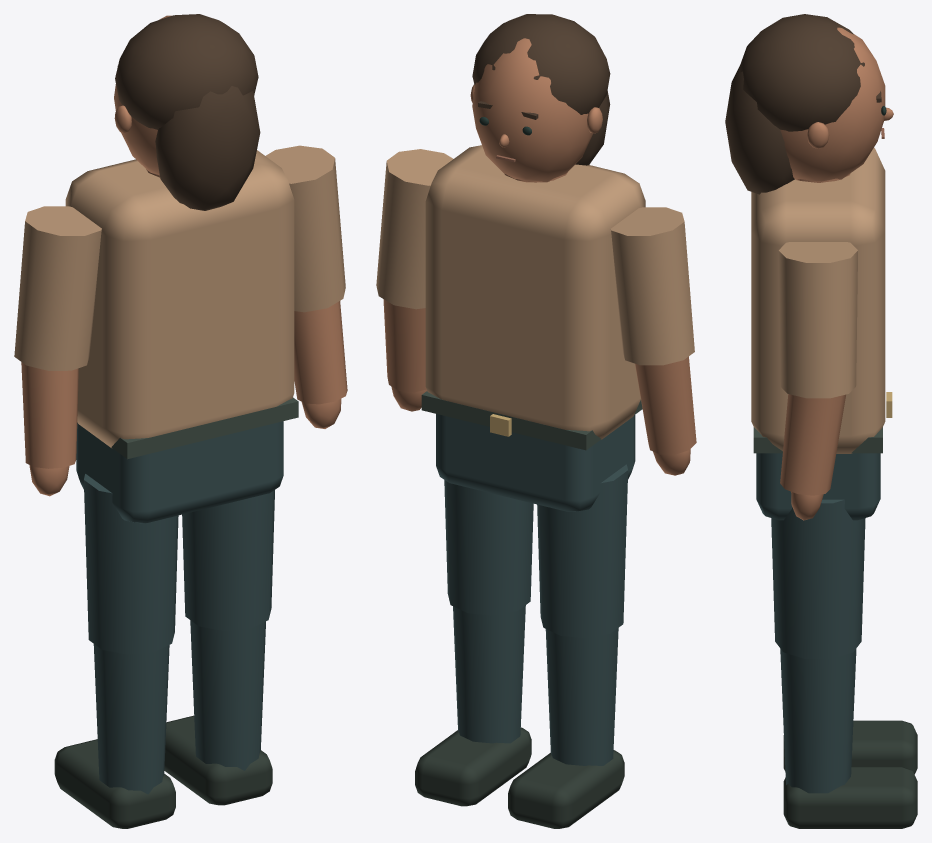
File: scout-02.glb
3 views of the same model, side by side, from view 1: azimuth 30°, elevation 25°; view 2: azimuth 150°, elevation 25°; view 3: azimuth 270°, elevation 25° (orthographic). The views are drawn at different scales.
Visible parts, largest first — view 1: Scout character 2, left-upper-arm, right-upper-arm; view 2: Scout character 2, left-upper-arm, right-upper-arm; view 3: Scout character 2, right-upper-arm.
Part boxes in pixels (bbox=[...]): Scout character 2: bbox=[54, 14, 298, 828]; left-upper-arm: bbox=[14, 206, 101, 496]; right-upper-arm: bbox=[266, 145, 347, 428]; Scout character 2: bbox=[415, 14, 645, 828]; left-upper-arm: bbox=[611, 207, 696, 475]; right-upper-arm: bbox=[376, 149, 453, 411]; Scout character 2: bbox=[725, 14, 917, 828]; right-upper-arm: bbox=[778, 242, 857, 520].
Bounding box in the file's own units: 0.7284 × 1.72 × 0.3874.
